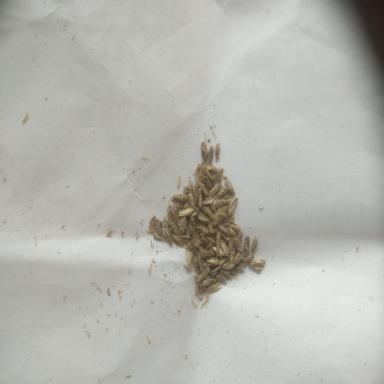pbw: (171, 233, 186, 249), (194, 220, 210, 235), (196, 266, 210, 283), (212, 210, 226, 227), (227, 196, 238, 217), (208, 182, 222, 198), (197, 178, 209, 196), (214, 187, 229, 201), (162, 227, 172, 247), (168, 217, 179, 235), (186, 234, 200, 248), (201, 174, 213, 190), (224, 219, 240, 231), (192, 179, 199, 205), (202, 168, 214, 183), (188, 190, 197, 210), (189, 225, 201, 240), (226, 179, 235, 197), (185, 250, 193, 270), (178, 207, 194, 217), (218, 224, 231, 236), (201, 140, 208, 162), (219, 238, 228, 255), (193, 253, 200, 274), (249, 262, 261, 274), (206, 258, 222, 267), (202, 206, 214, 218), (249, 259, 266, 267), (233, 252, 243, 265), (208, 282, 221, 292), (216, 167, 224, 183), (234, 238, 242, 254), (228, 234, 236, 250), (204, 164, 218, 173), (197, 253, 204, 271), (196, 214, 210, 223), (215, 205, 229, 214), (170, 195, 188, 202), (202, 278, 216, 287), (198, 188, 204, 208), (212, 246, 224, 256), (215, 274, 227, 284), (168, 204, 176, 219), (244, 236, 250, 256), (208, 146, 214, 166), (155, 219, 162, 236), (251, 235, 258, 252), (216, 231, 220, 260), (221, 261, 235, 269), (176, 202, 181, 224), (243, 254, 254, 264), (202, 196, 215, 204), (210, 266, 220, 276), (226, 227, 237, 236), (218, 268, 230, 276), (204, 236, 216, 244), (216, 142, 220, 162), (202, 251, 215, 257), (230, 247, 235, 262), (198, 246, 206, 253)
